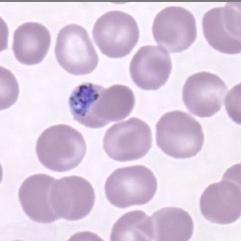Infected: (67, 83, 113, 128)
Uninfected: (18, 174, 72, 224), (35, 123, 87, 172), (155, 110, 204, 159), (102, 117, 152, 162), (55, 23, 99, 74), (105, 164, 157, 207), (182, 71, 229, 118), (93, 11, 139, 58), (152, 6, 196, 53), (50, 176, 95, 220), (136, 207, 194, 241), (201, 6, 241, 54), (130, 46, 172, 91), (200, 181, 241, 224), (12, 22, 51, 65), (91, 84, 135, 122), (110, 210, 156, 241)
